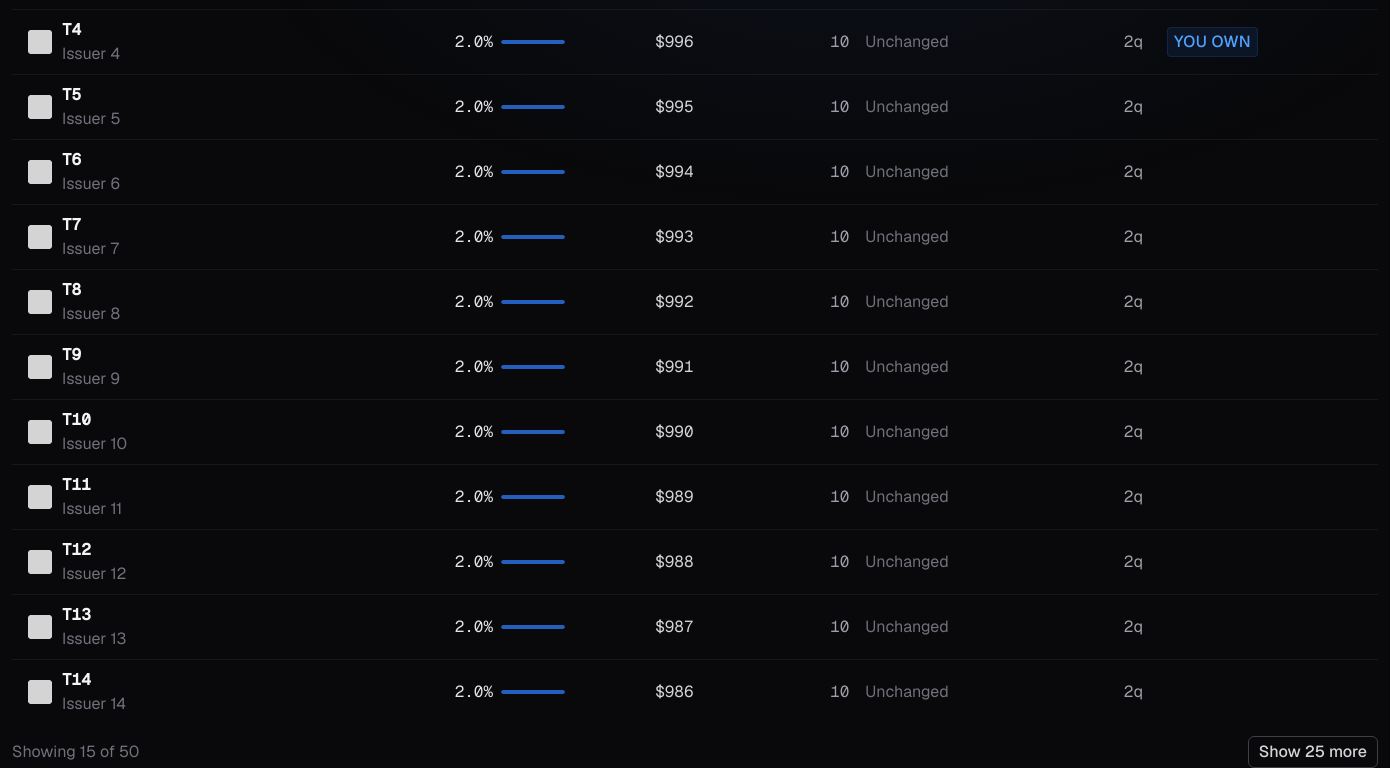
Test: HoldingsTab › shows 15 rows, then 25 more at a time
(page scrolled)
Expected: the text "Showing 15 of 50" is shown, [12,740,139,764]
Click the button "Show 25 more" at [1313, 752], box [1248,736,1378,767]
(page scrolled)
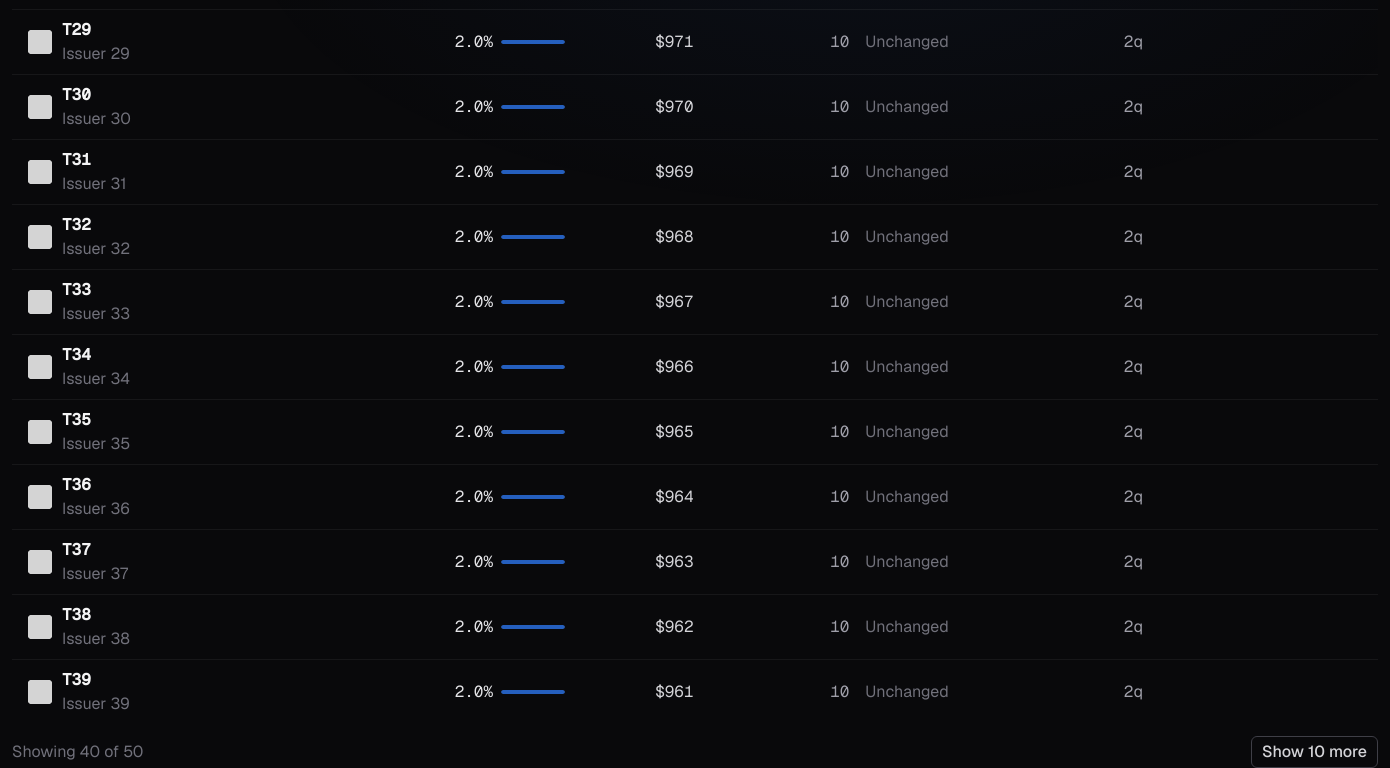
Click the button "Show 10 more" at [1314, 752], box [1251,736,1378,767]
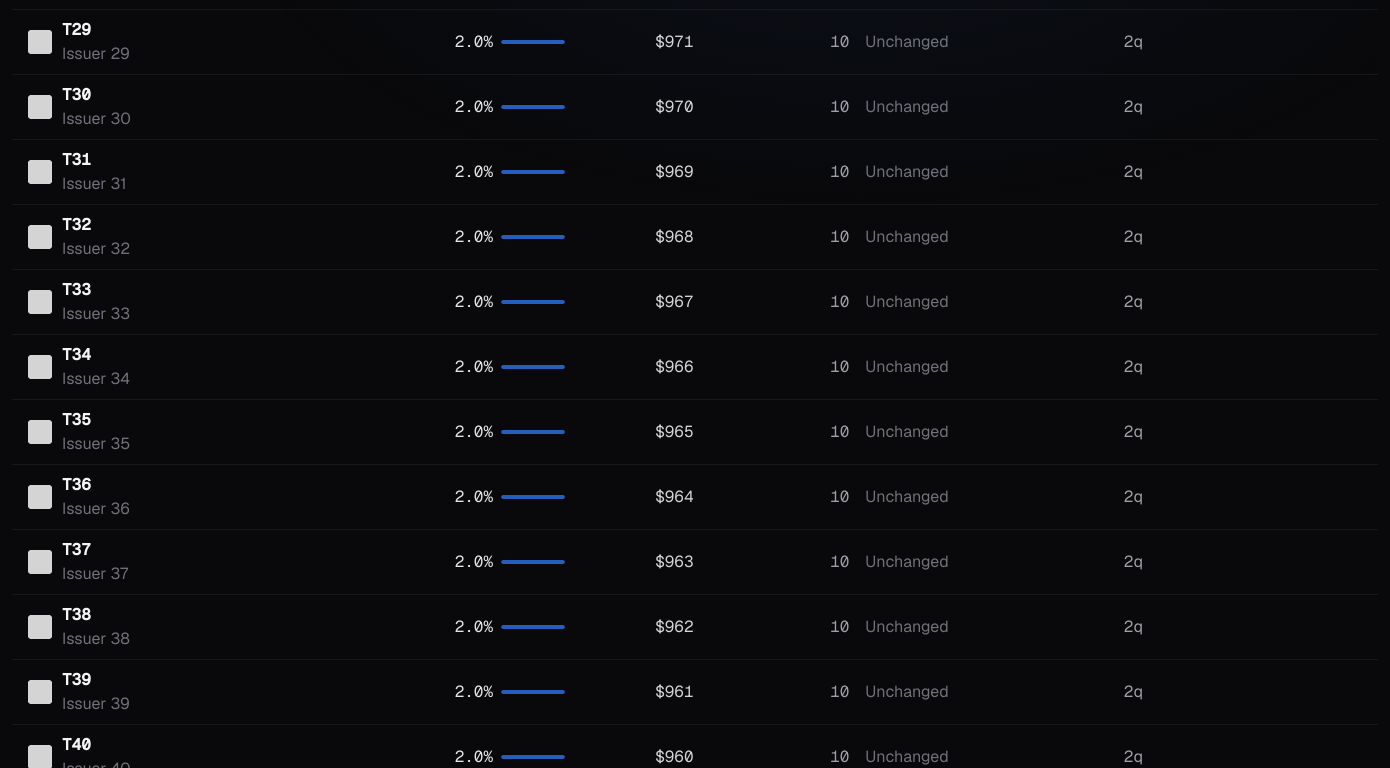
Expected: the button "more" is gone
